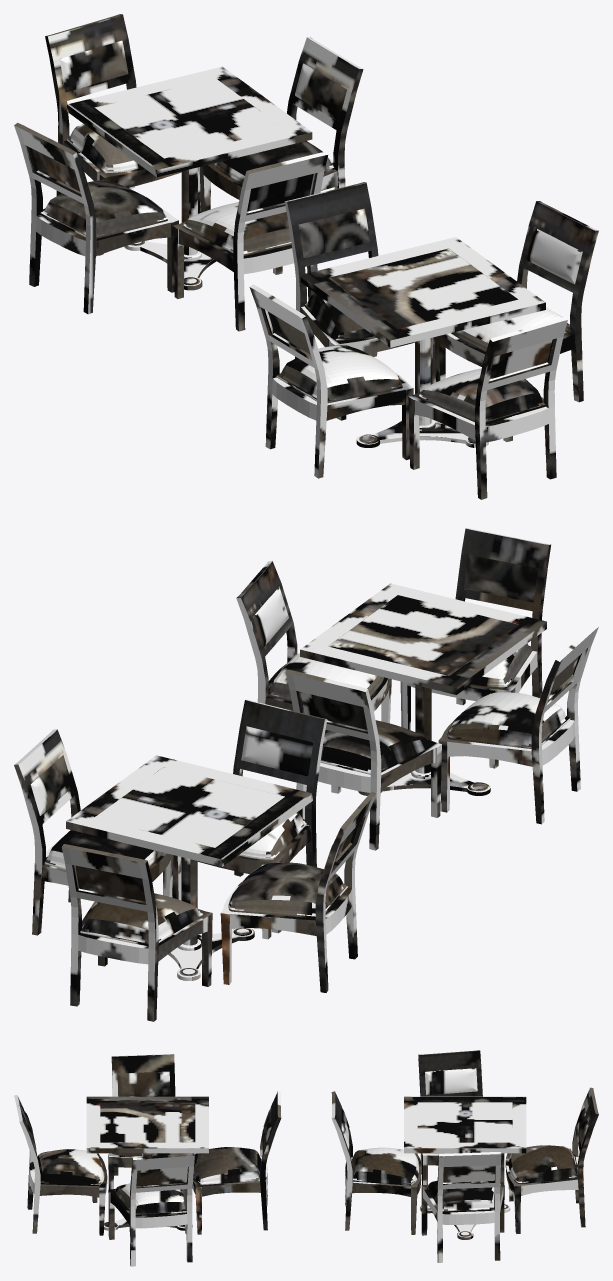
The model's file is hotelhamilton_3.obj.
The picture shows the model from 3 angles, top to bottom: view 1: azimuth 30°, elevation 25°; view 2: azimuth 150°, elevation 25°; view 3: azimuth 270°, elevation 25°; orthographic projection. The views are drawn at different scales.
Size of the model in its own units: 1.92 by 0.9291 by 4.31.
